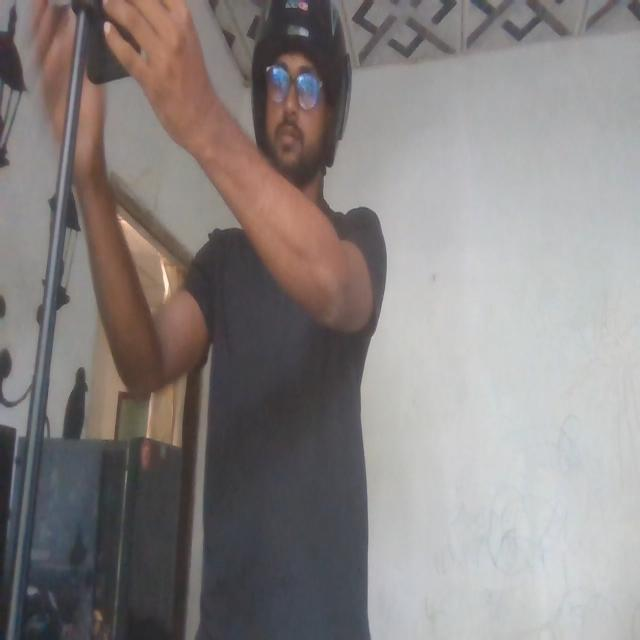Helmet_Wearer: (245, 3, 359, 206)
Person: (194, 0, 390, 640)
